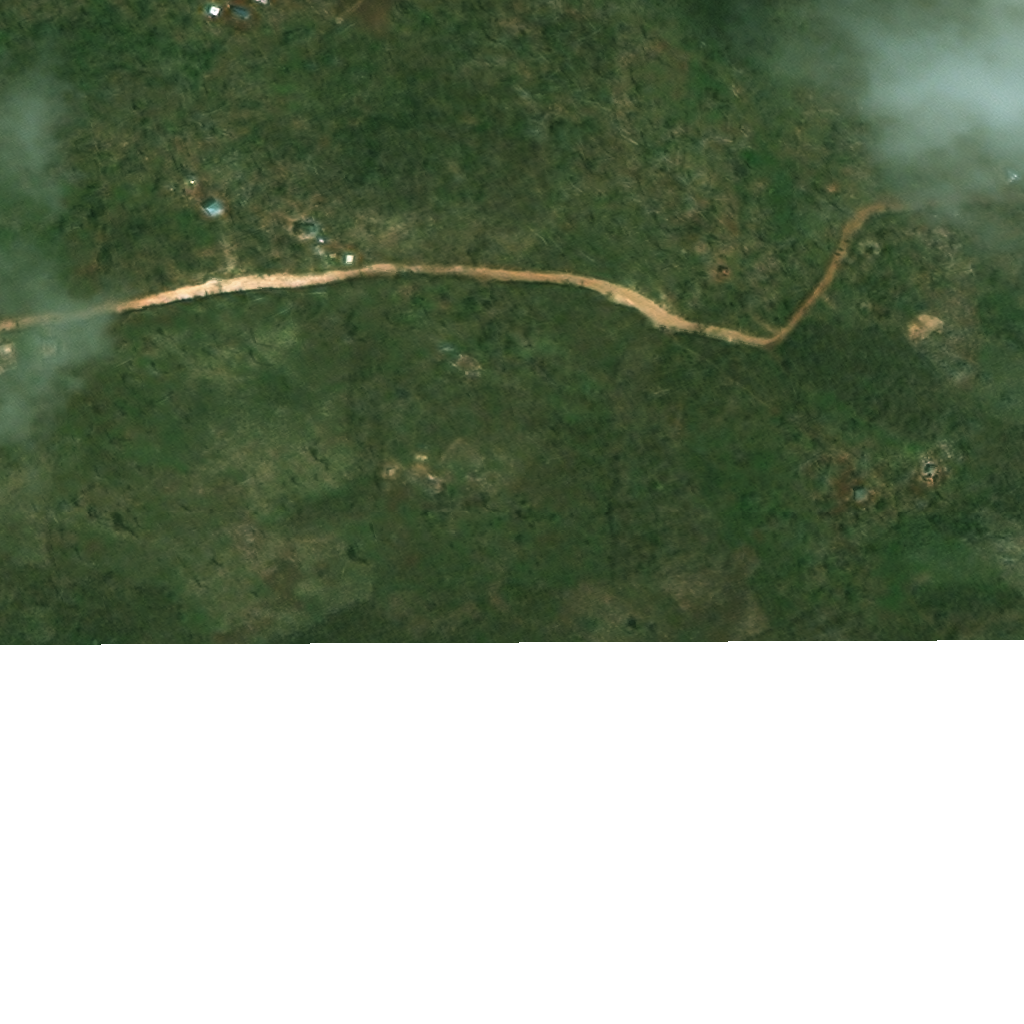major_damage: (299, 223, 322, 244)
minor_damage: (937, 467, 956, 485), (869, 486, 884, 501)
unclassified: (58, 334, 85, 373), (15, 340, 40, 372), (755, 117, 778, 140), (935, 232, 960, 249), (989, 258, 1003, 275), (412, 288, 429, 298), (454, 281, 465, 292)
